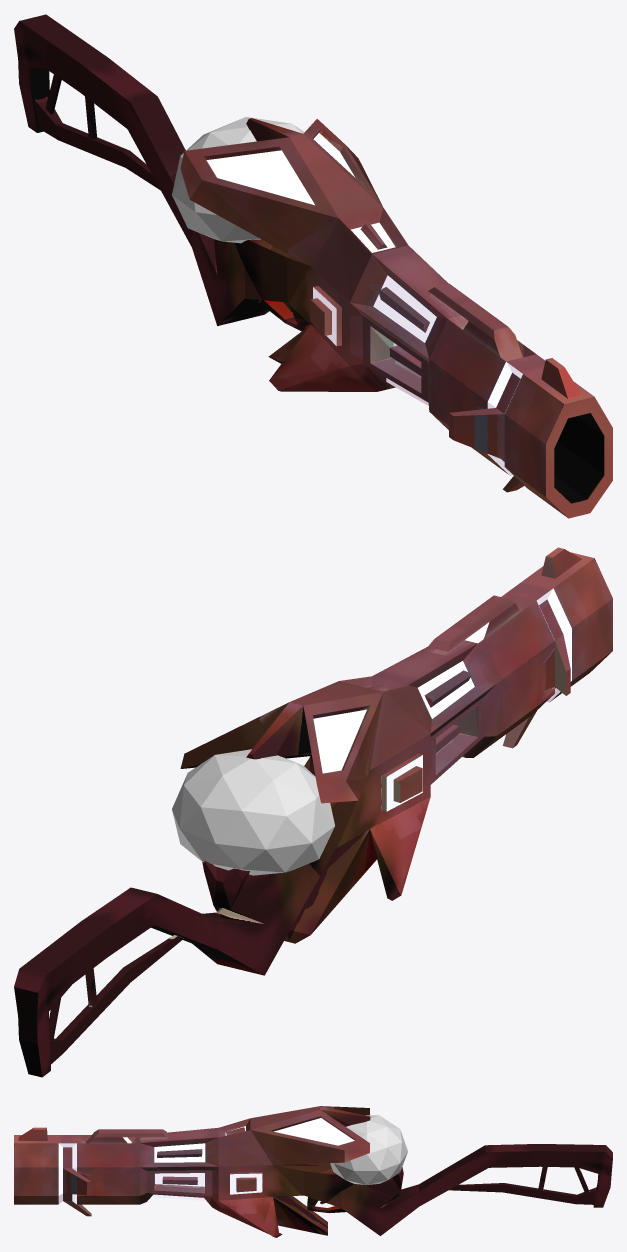
The model's file is Shotgun.fbx.
3 views of the same model, one above another, from view 1: azimuth 30°, elevation 25°; view 2: azimuth 150°, elevation 25°; view 3: azimuth 270°, elevation 25° (orthographic). The views are drawn at different scales.
Parts seen in each view (by area): view 1: ShotgunBody, DiceCapsule; view 2: ShotgunBody, DiceCapsule; view 3: ShotgunBody, DiceCapsule.
Part boxes in pixels (left/top/right/bottom): ShotgunBody: left=14, top=14, right=612, bottom=518; DiceCapsule: left=172, top=116, right=304, bottom=243; ShotgunBody: left=14, top=547, right=612, bottom=1077; DiceCapsule: left=172, top=749, right=334, bottom=875; ShotgunBody: left=14, top=1106, right=612, bottom=1237; DiceCapsule: left=330, top=1115, right=407, bottom=1184.
Bounding box in the file's own units: 671 × 886 × 3804.
